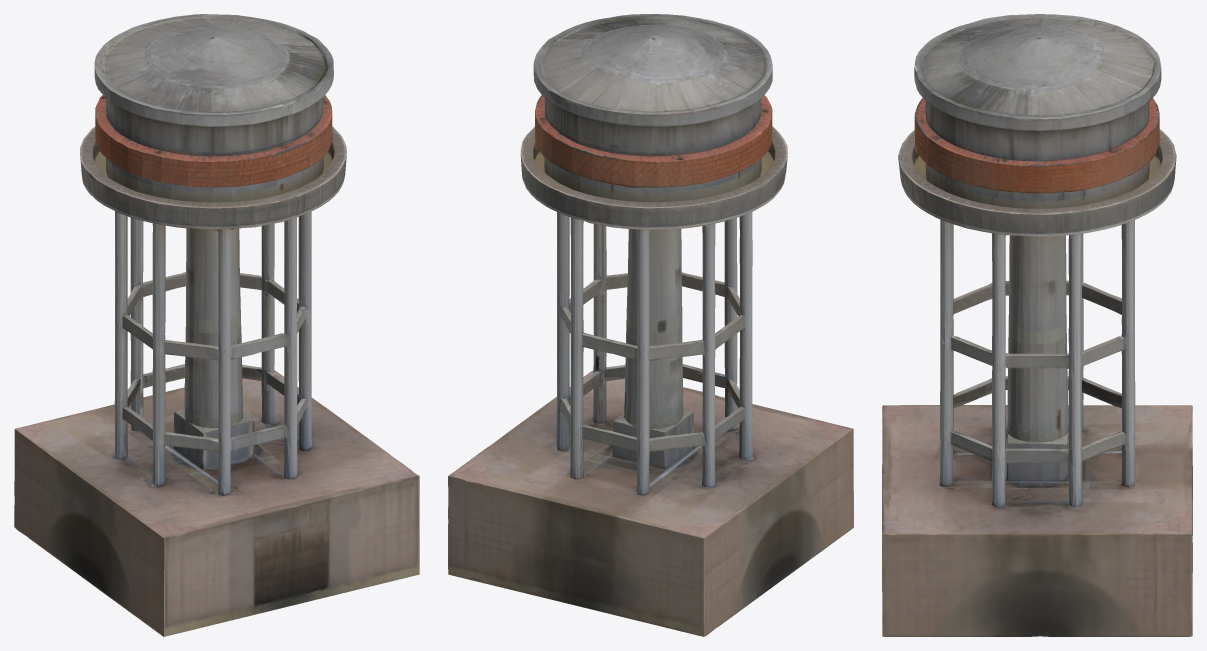
The model's file is Watchtower_Struckwall_0416140120_texture.fbx.
The picture shows the model from 3 angles, left to right: view 1: azimuth 30°, elevation 25°; view 2: azimuth 150°, elevation 25°; view 3: azimuth 270°, elevation 25°; orthographic projection. The views are drawn at different scales.
Visible parts, largest first — view 1: temp; view 2: temp; view 3: temp.
Part boxes in pixels (x1,y1,x2,y2): temp: [14, 14, 419, 636]; temp: [448, 14, 853, 636]; temp: [882, 14, 1192, 636].
Bounding box in the file's own units: 104 × 200 × 106.
1 material, 1 textured.
